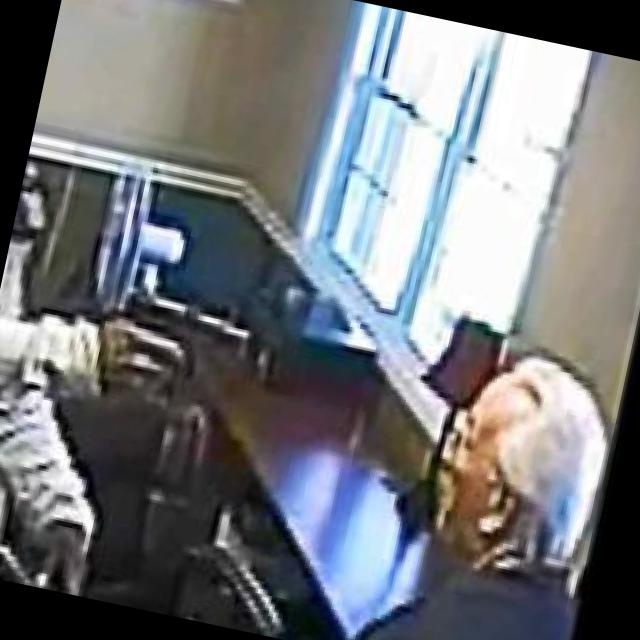Guns: (70, 261, 284, 428)
